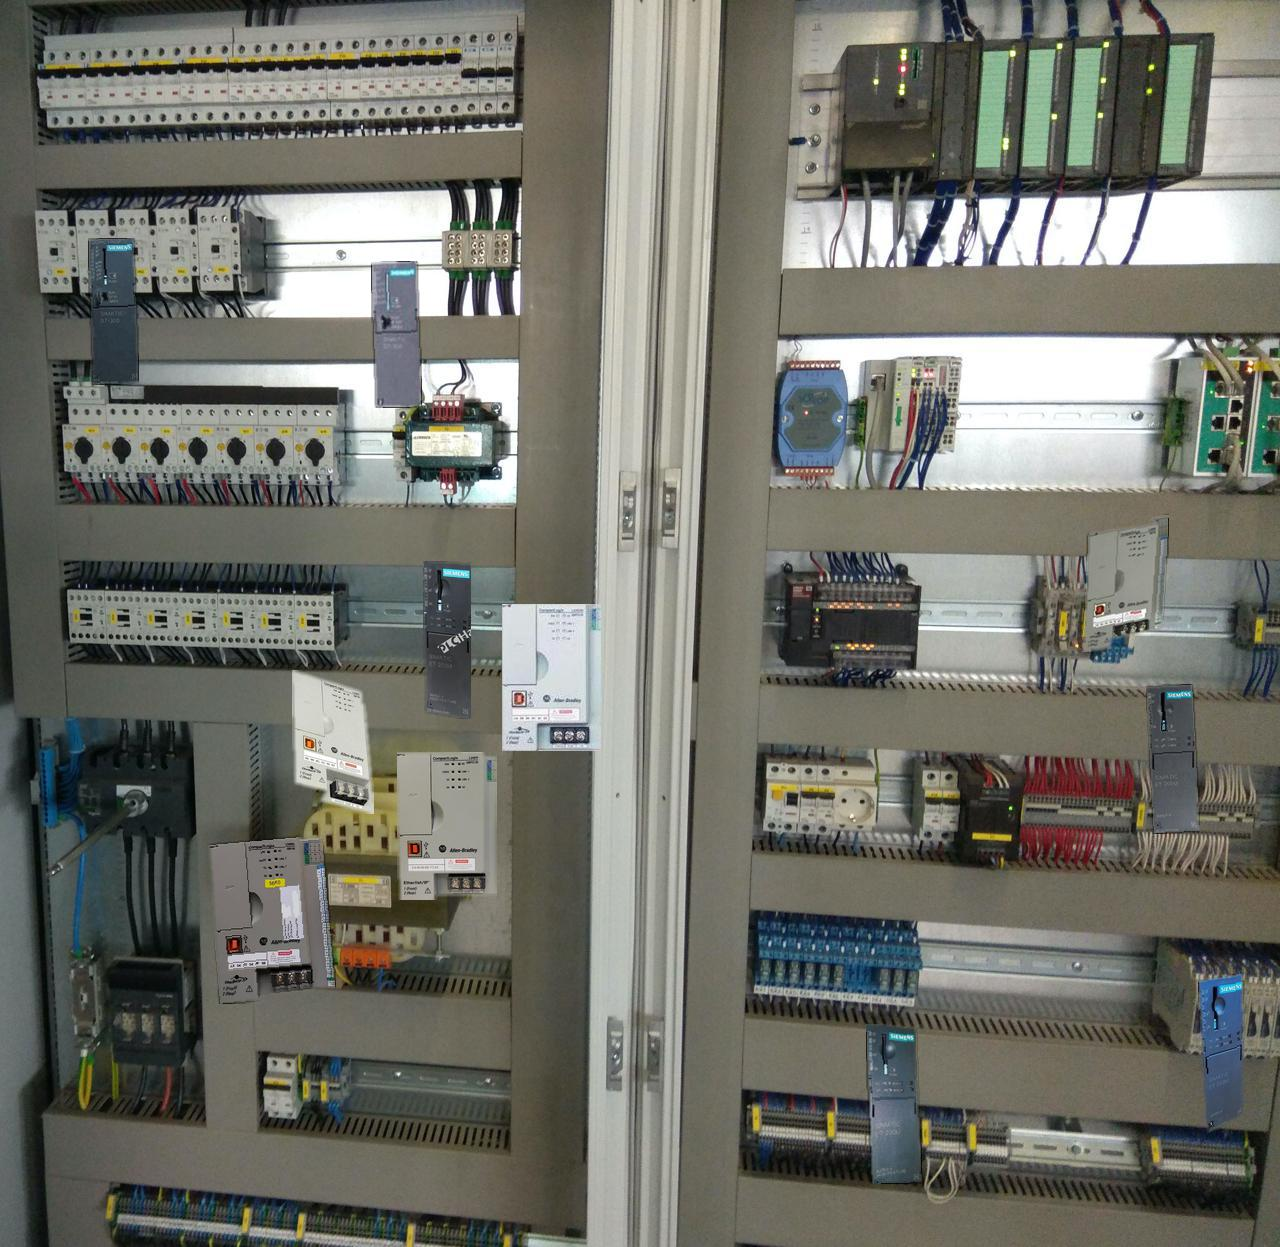AllenBradley: (209, 837, 334, 1004), (397, 752, 496, 900), (502, 603, 600, 750), (1083, 515, 1168, 652), (293, 670, 373, 813)
Siemens: (89, 238, 137, 384), (373, 261, 421, 407)
